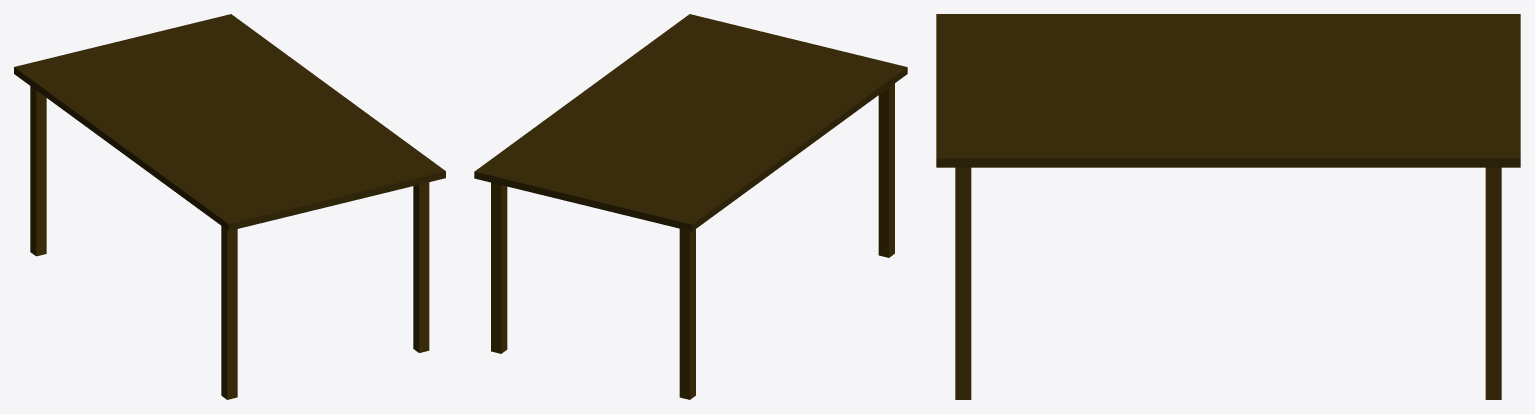
The model's file is M_Mesa.fbx.
The picture shows the model from 3 angles, left to right: view 1: azimuth 30°, elevation 25°; view 2: azimuth 150°, elevation 25°; view 3: azimuth 270°, elevation 25°; orthographic projection. The views are drawn at different scales.
Parts seen in each view (by area): view 1: pCube1, pasted__pCube2 (×2), pCube2; view 2: pCube1, pasted__pCube2 (×2), pCube2; view 3: pCube1, pasted__pCube2 (×2).
Boxes of the visible parts, x1=… form: pCube1: x1=14, y1=14, x2=445, y2=230; pasted__pCube2 (×2): x1=30, y1=86, x2=429, y2=352; pCube2: x1=221, y1=226, x2=237, y2=399; pCube1: x1=474, y1=14, x2=907, y2=231; pasted__pCube2 (×2): x1=491, y1=182, x2=695, y2=399; pCube2: x1=878, y1=83, x2=894, y2=257; pCube1: x1=936, y1=14, x2=1520, y2=167; pasted__pCube2 (×2): x1=955, y1=167, x2=1501, y2=399.
Size of the model in its own units: 10.05 by 8.06 by 17.22.
